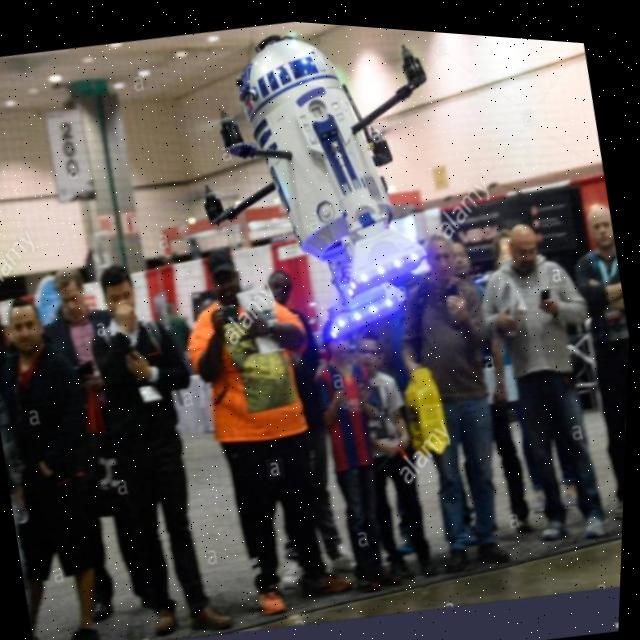drones: (109, 7, 516, 412)
